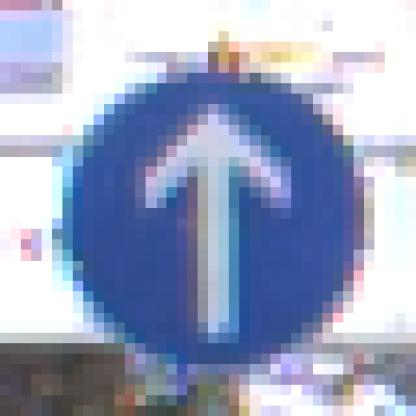AheadOnly: (53, 53, 365, 365)
